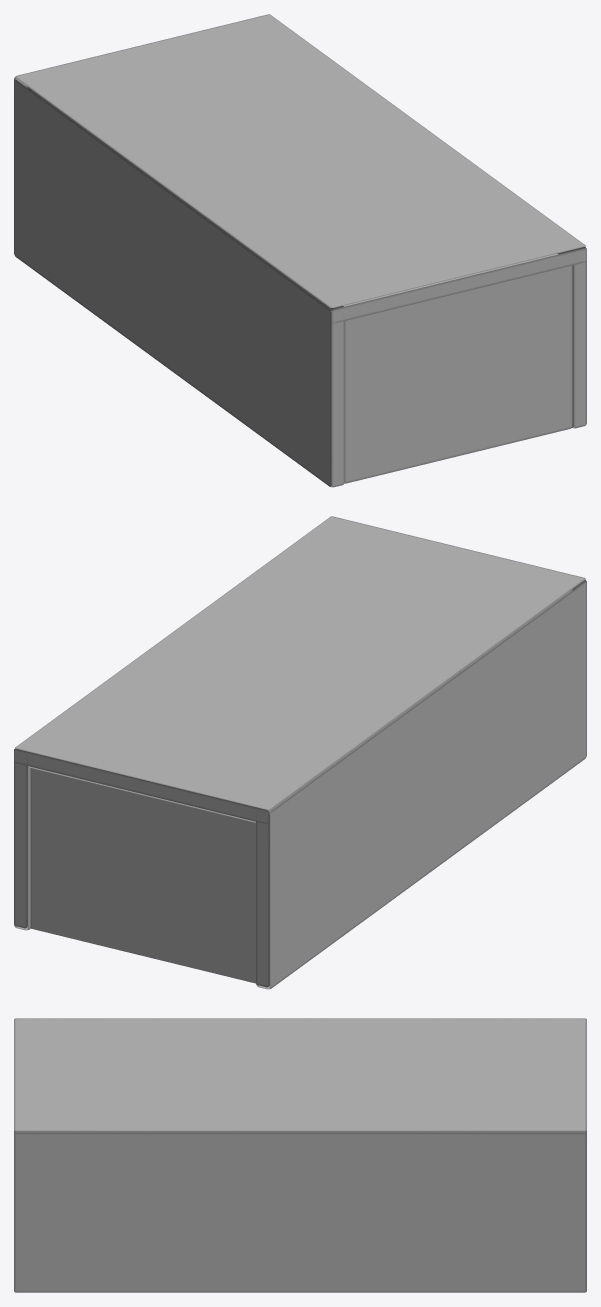
The model's file is pz_bookcase_white.obj.
The picture shows the model from 3 angles, top to bottom: view 1: azimuth 30°, elevation 25°; view 2: azimuth 150°, elevation 25°; view 3: azimuth 270°, elevation 25°; orthographic projection. The views are drawn at different scales.
Bounding box in the file's own units: 0.94 × 0.63 × 2.02.
Materials: 1 (1 with a texture image).
